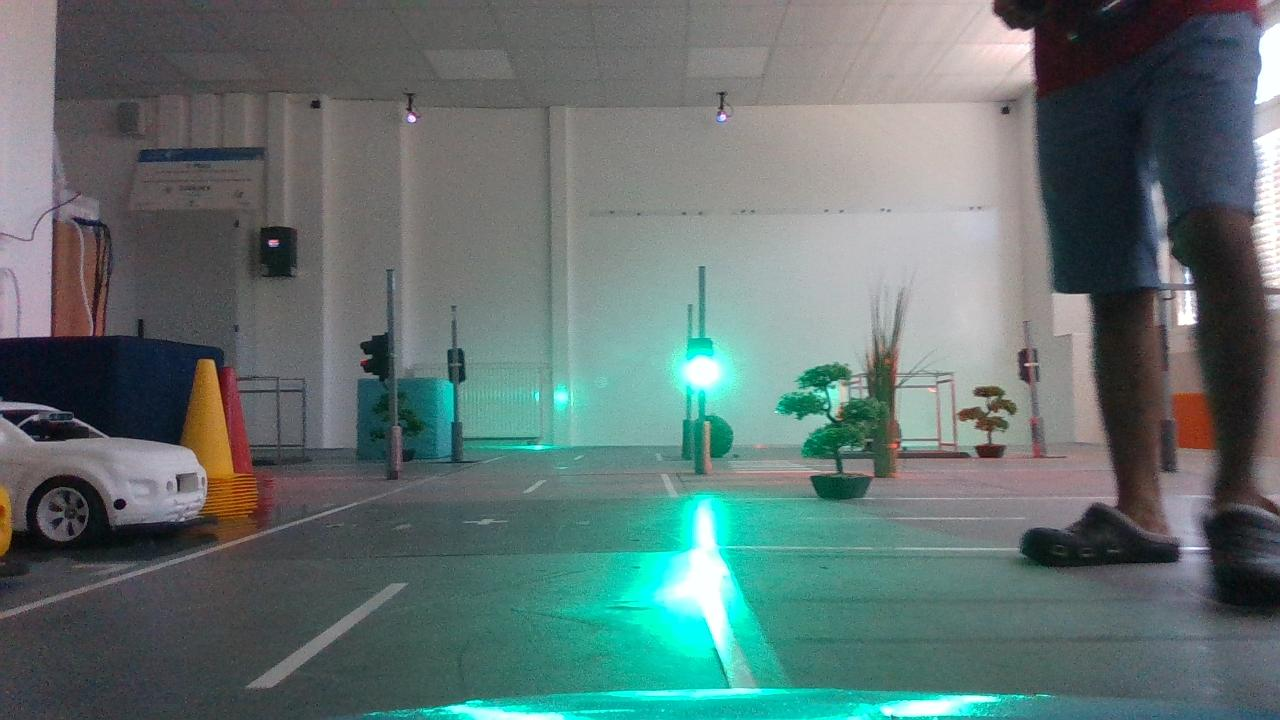traffic_light_green: (678, 329, 722, 398)
